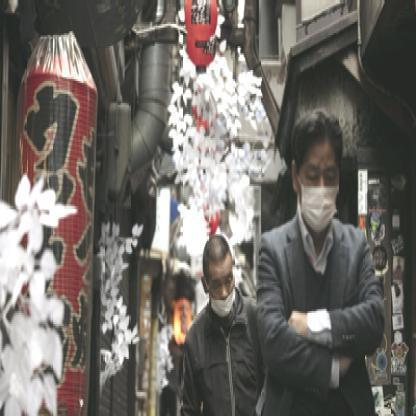mask_weared_incorrect: (209, 265, 236, 319)
with_mask: (300, 156, 340, 232)
